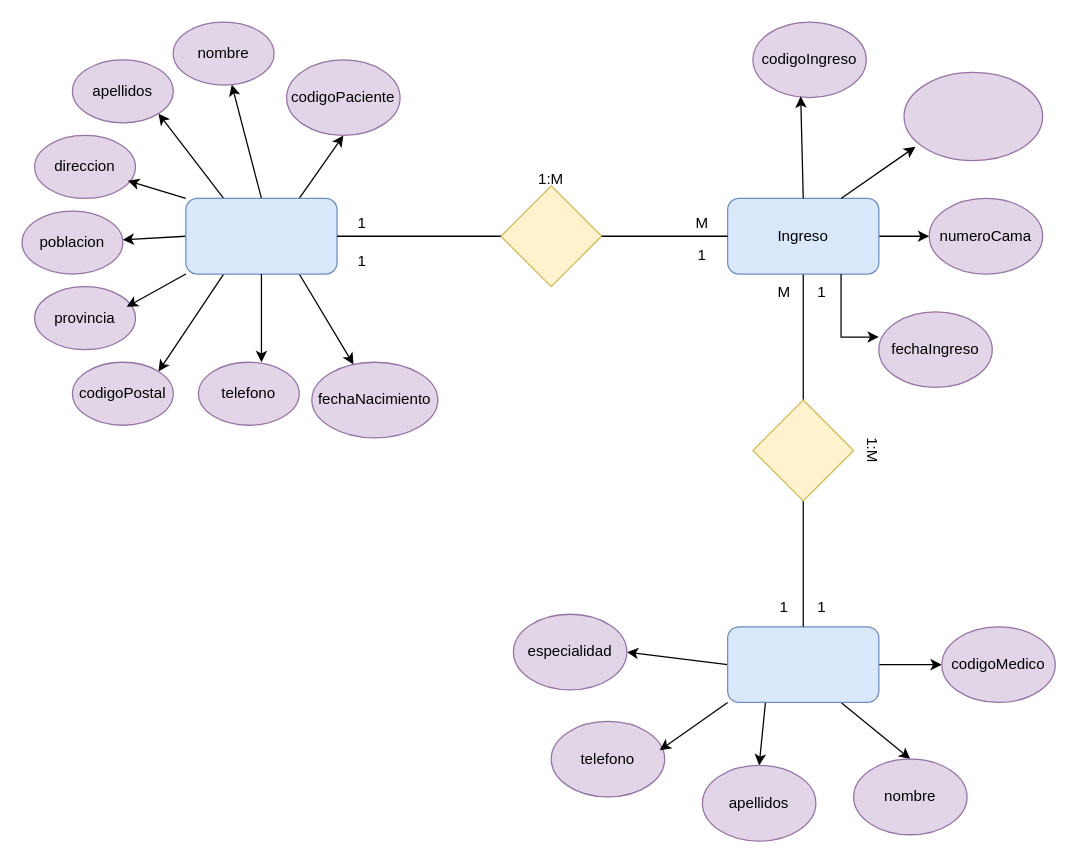
The diagram is 1077 pixels wide and 863 high, and some of its shapes have lost their labels. Here are the shapes that lost their labels. From the top down, the centre of each, then its label:
pixel 973 116: numeroHabitacion
pixel 261 235: Paciente
pixel 551 236: Realiza
pixel 803 450: es atendido por
pixel 802 664: Medico
